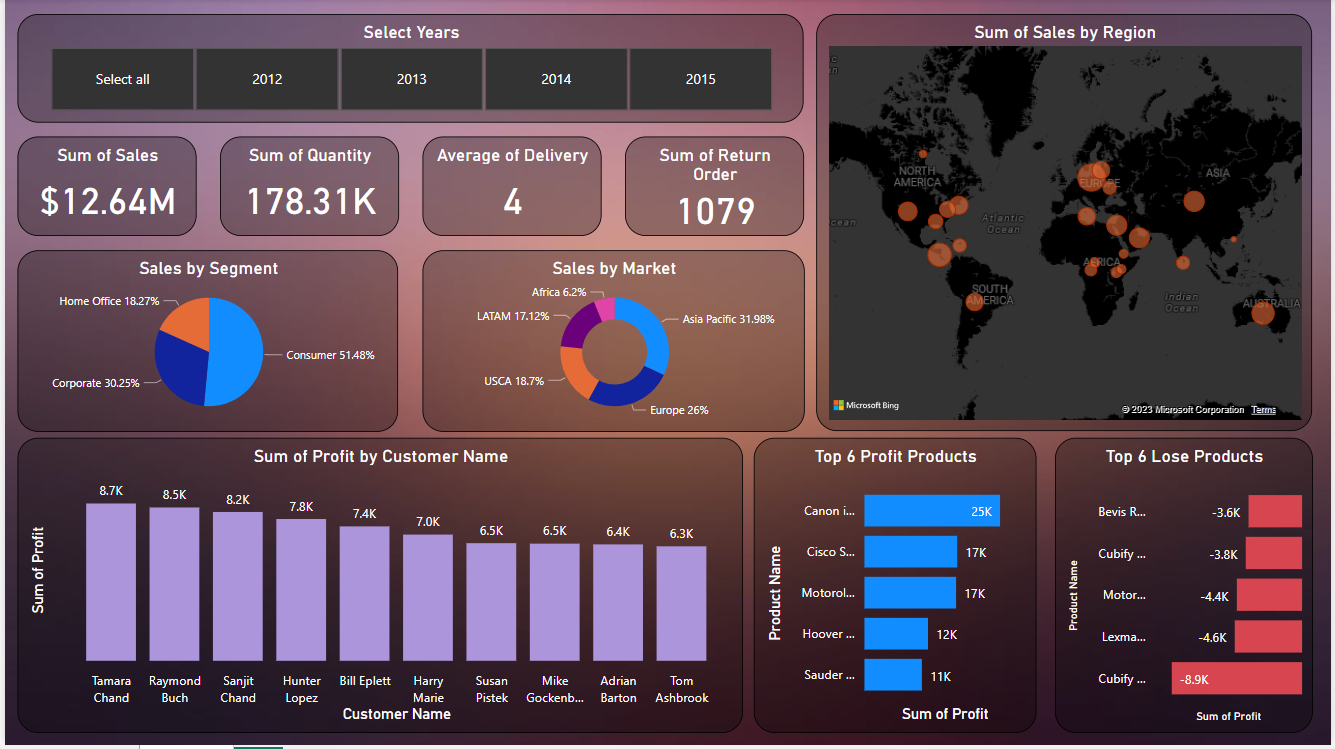

This screenshot's page, from the dashboard's own definition file:
{"tool":"powerbi","page":{"name":"Page 1","canvas":[1280,720],"ordinal":0},"visuals":[{"type":"card","title":"Sum of  Sales","fields":{"Values":["Orders.Sales"]},"box":[12.5,132.5,172.5,96.2],"z":0},{"type":"card","title":"Sum of Quantity","fields":{"Values":["Orders.Quantity"]},"box":[207.5,132.5,172.5,96.2],"z":1000},{"type":"card","title":"Average of Delivery","fields":{"Values":["Orders.Delivery Days"]},"box":[402.5,132.5,172.5,96.2],"z":2000},{"type":"card","title":"Sum of Return Order","fields":{"Values":["Returns.Return Orders"]},"box":[598.8,132.5,172.5,96.2],"z":3000},{"type":"slicer","title":"Select Years","fields":{"Values":["Orders.Year"]},"box":[12.5,15,758.8,105],"z":4000},{"type":"map","fields":{"Category":["Orders.Region"],"Size":["Orders.Sales"]},"box":[782.5,15,478.8,402.5],"z":5000},{"type":"barChart","title":"Top 6 Profit Products ","fields":{"Y":["Orders.Profit"],"Category":["Orders.Product Name"]},"box":[722.4,423.3,272.6,284.6],"z":6000},{"type":"barChart","title":"Top 6 Lose Products ","fields":{"Y":["Orders.Profit"],"Category":["Orders.Product Name"]},"box":[1013.1,423.3,248.4,284.6],"z":7000},{"type":"pieChart","title":"Sales by Segment","fields":{"Category":["Orders.Segment"],"Y":["Orders.Sales"]},"box":[12.5,242.5,367.5,175],"z":8000},{"type":"donutChart","title":"Sales by Market","fields":{"Y":["Orders.Sales"],"Category":["Orders.Market"]},"box":[402.5,242.5,368.8,175],"z":9000},{"type":"columnChart","fields":{"Y":["Orders.Profit"],"Category":["Orders.Customer Name"]},"box":[12.5,423.8,700,285],"z":10000}]}

Visuals, with their boxes in screenshot pixels (x1, y1, x2, y2), scaled from the page's 1280x720 canvas onto the 1335x749 screenshot:
"Sum of  Sales" card: rect(13, 138, 193, 238)
"Sum of Quantity" card: rect(216, 138, 396, 238)
"Average of Delivery" card: rect(420, 138, 600, 238)
"Sum of Return Order" card: rect(625, 138, 804, 238)
"Select Years" slicer: rect(13, 16, 804, 125)
map - Orders.Region x Orders.Sales: rect(816, 16, 1315, 434)
"Top 6 Profit Products " barChart: rect(753, 440, 1038, 736)
"Top 6 Lose Products " barChart: rect(1057, 440, 1316, 736)
"Sales by Segment" pieChart: rect(13, 252, 396, 434)
"Sales by Market" donutChart: rect(420, 252, 804, 434)
columnChart - Orders.Profit x Orders.Customer Name: rect(13, 441, 743, 737)
